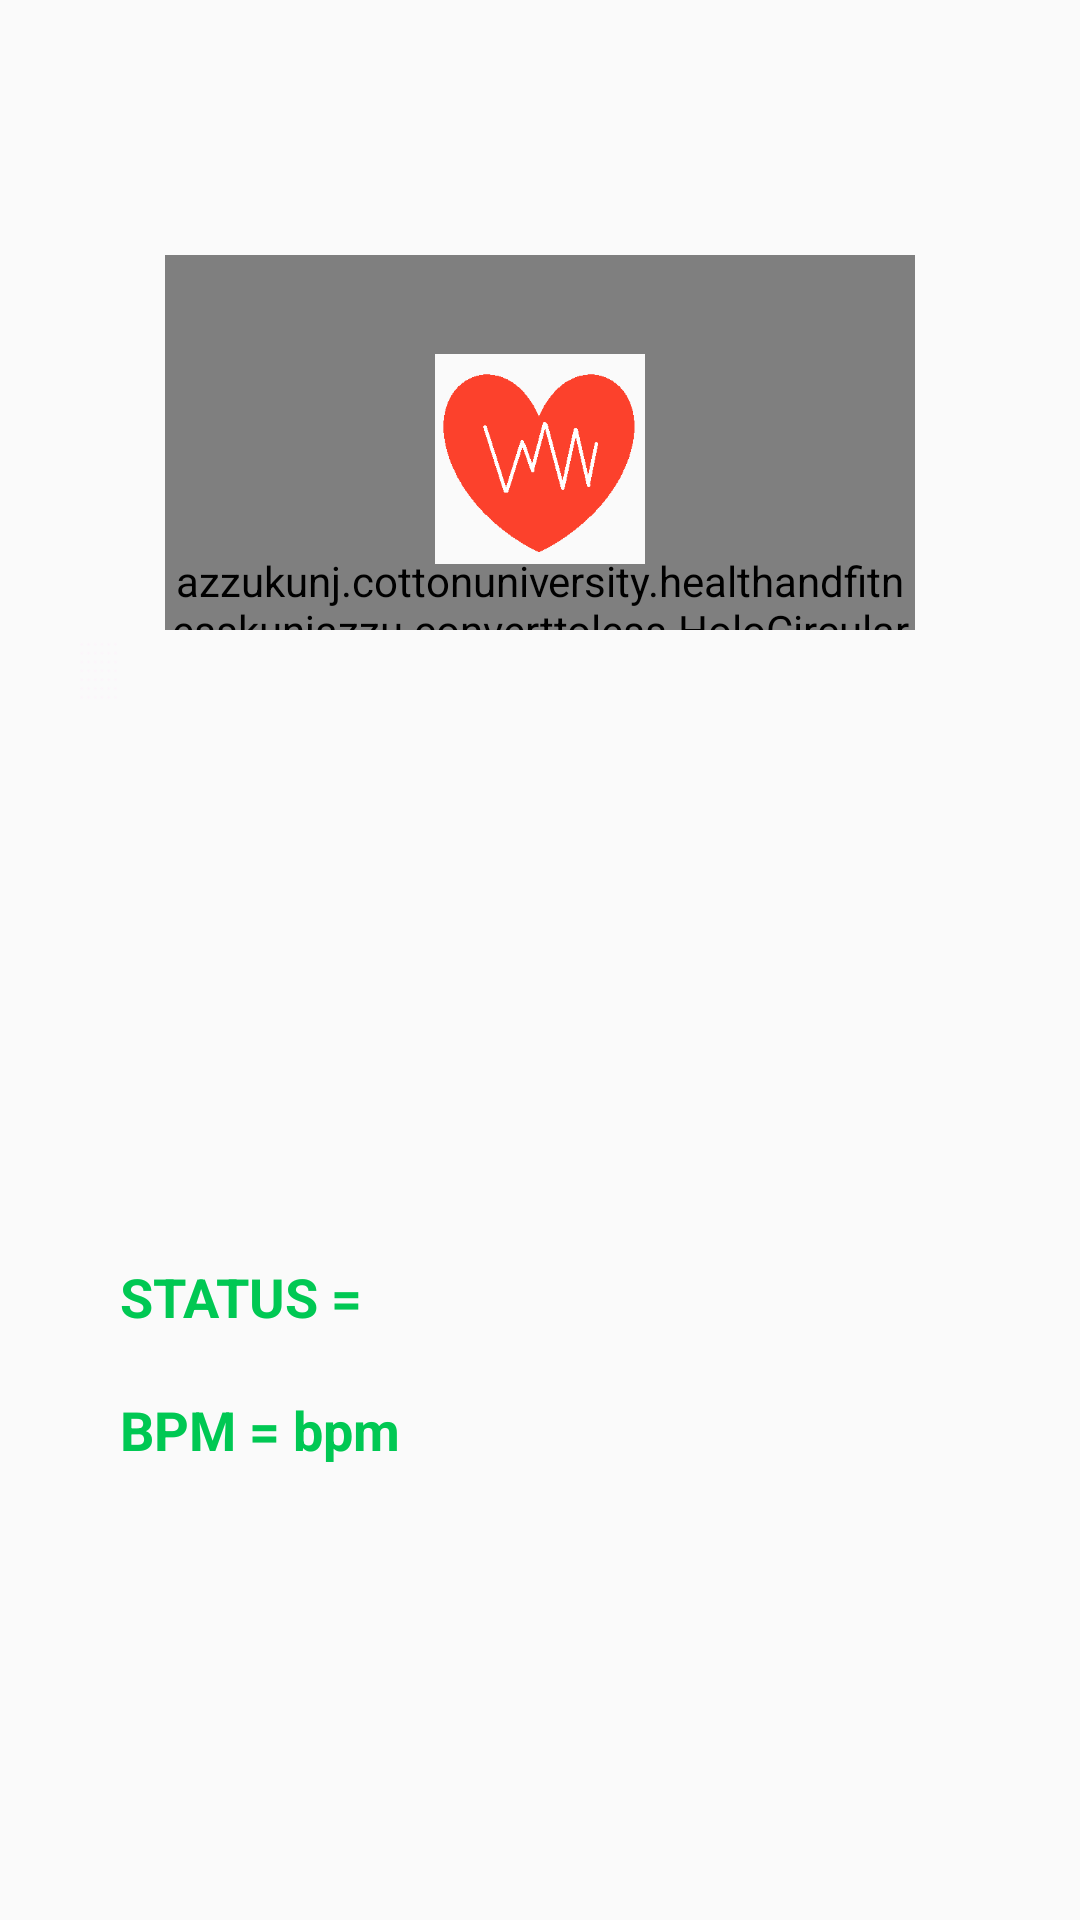

Where icons sit on this 1080*1920 app screen, as box(x1, y1, x2, y2):
heart: box(435, 354, 645, 564)
